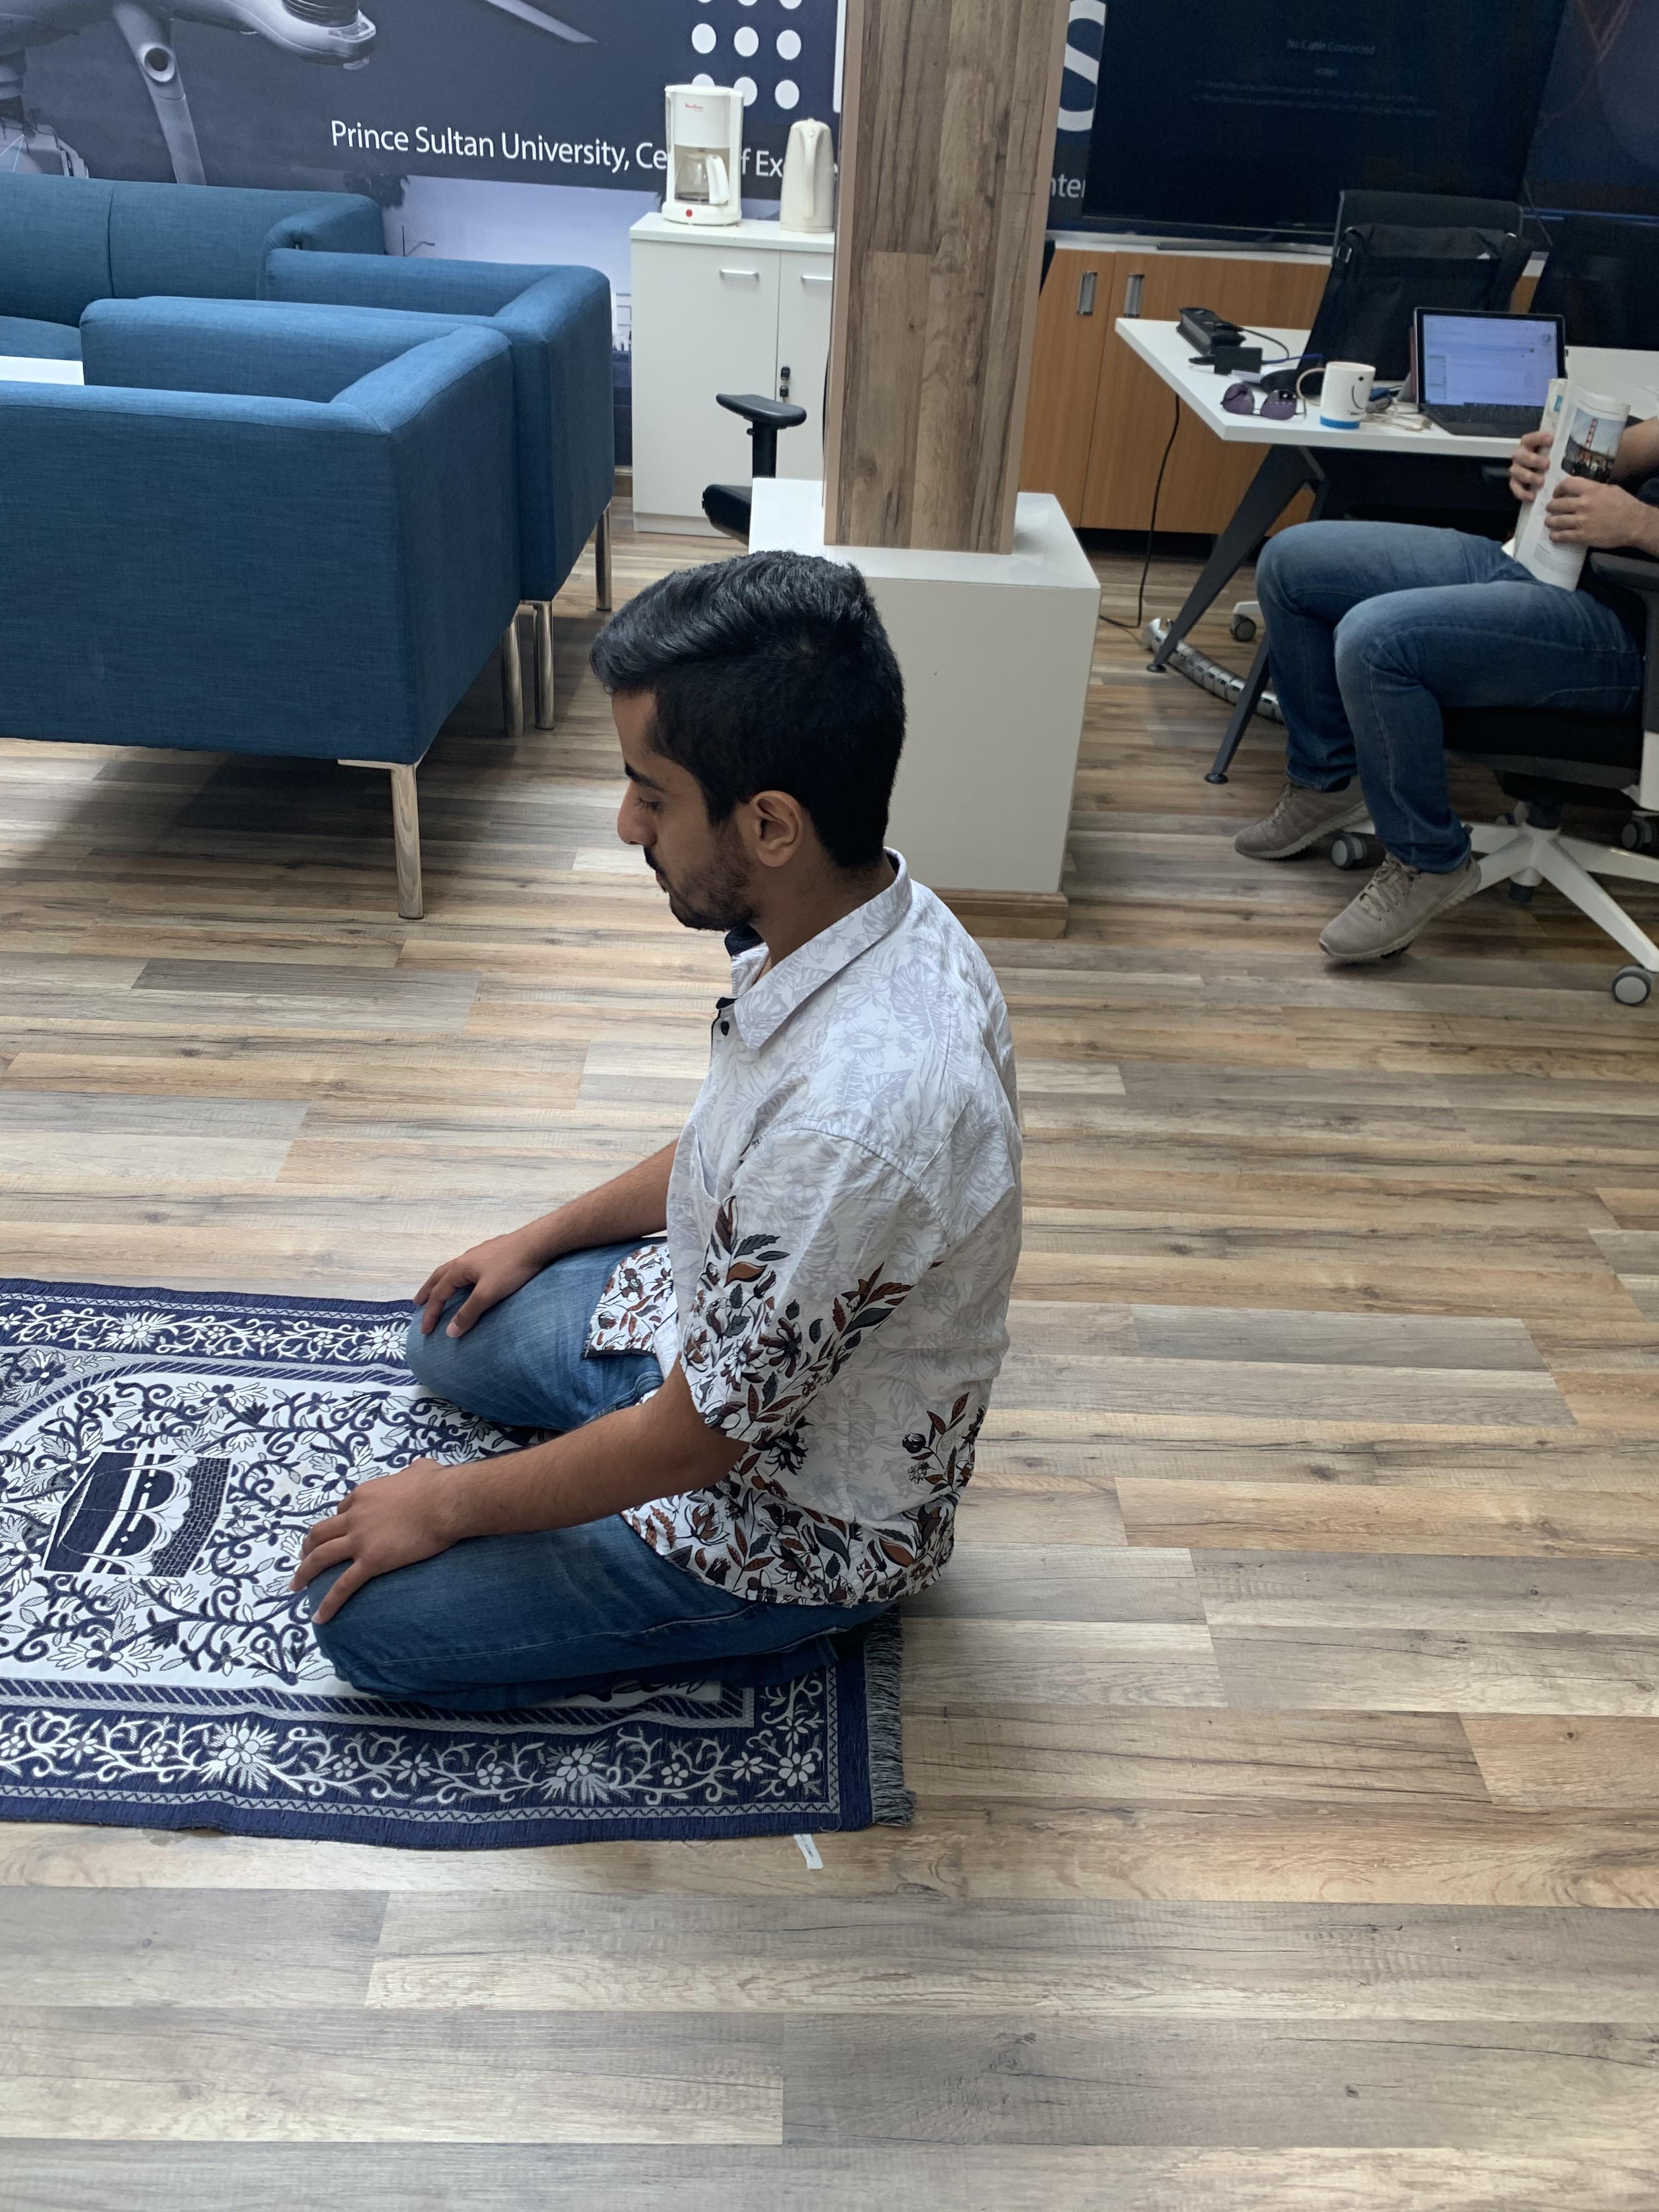julus: (289, 549, 1030, 1696)
